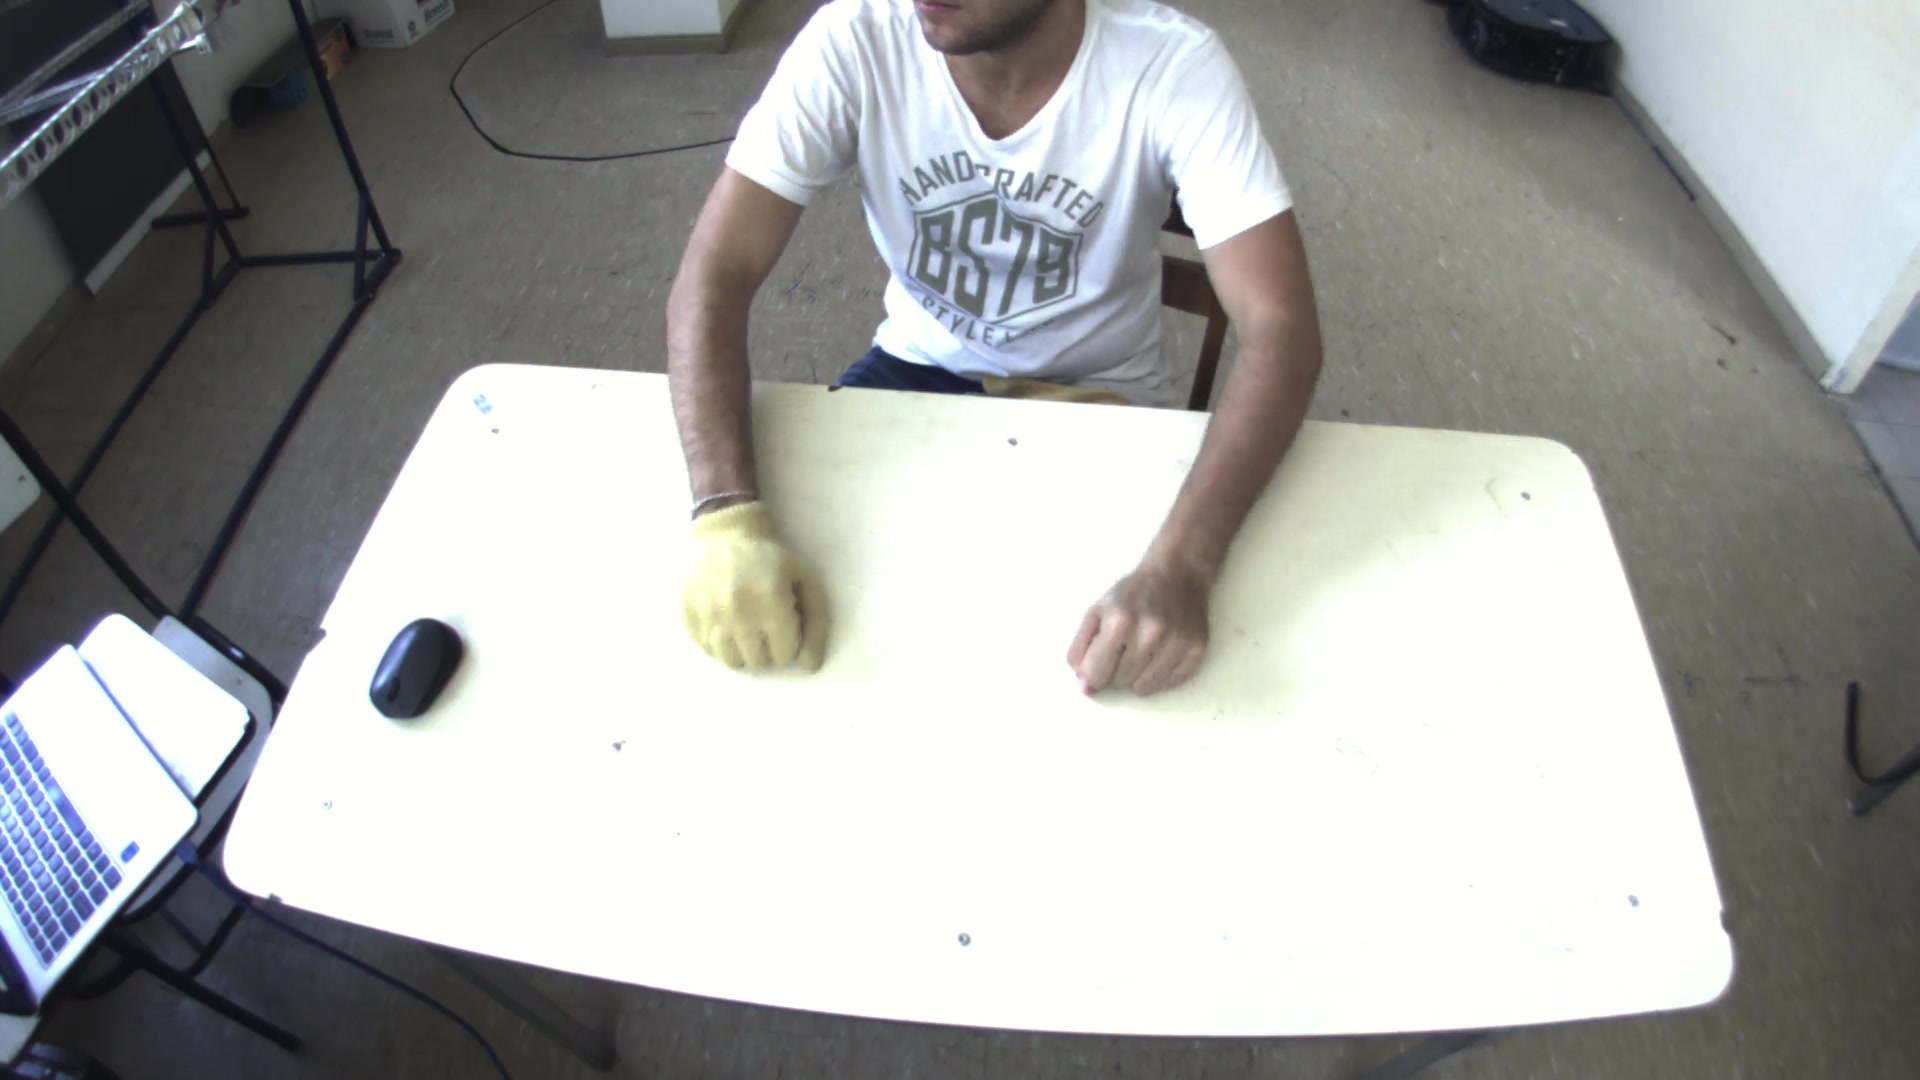hand: (655, 487, 829, 679), (1059, 545, 1236, 702)
